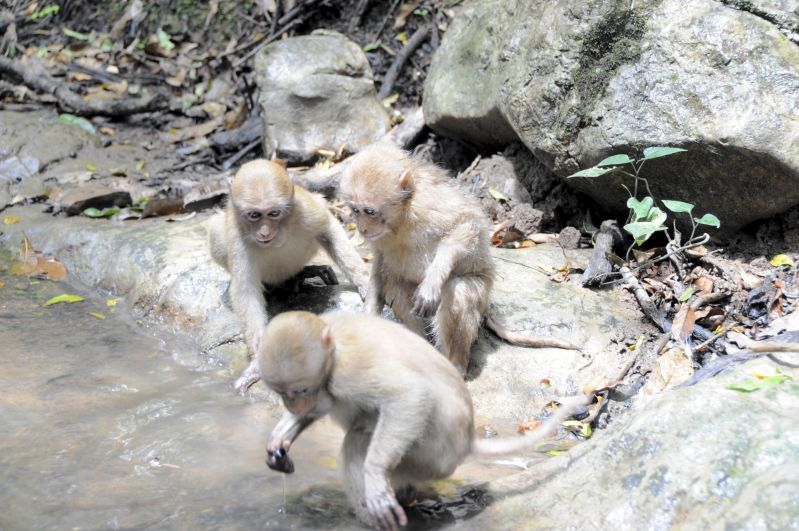monkey: (225, 302, 611, 531), (328, 118, 594, 409), (179, 133, 370, 400)
